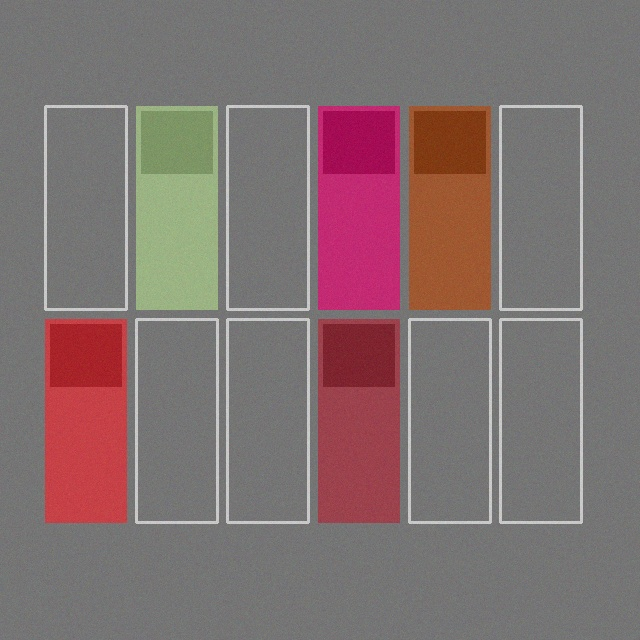space-empty: (45, 106, 126, 309), (227, 106, 308, 309), (500, 106, 581, 309), (136, 319, 217, 522), (227, 319, 308, 522), (409, 319, 490, 522), (500, 319, 581, 522)
space-occupied: (136, 106, 217, 309), (318, 106, 399, 309), (409, 106, 490, 309), (45, 319, 126, 522), (318, 319, 399, 522)
